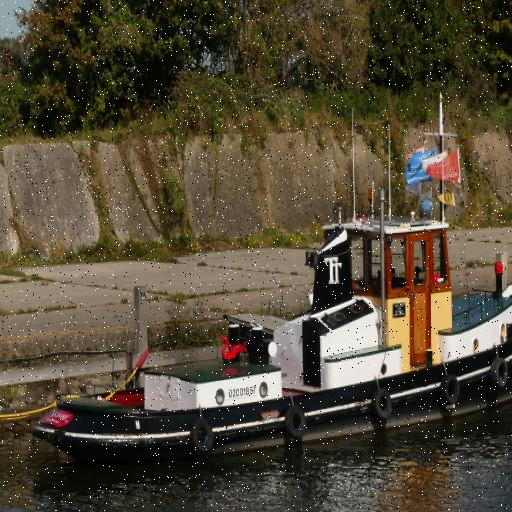tugboat: (26, 198, 512, 458)
